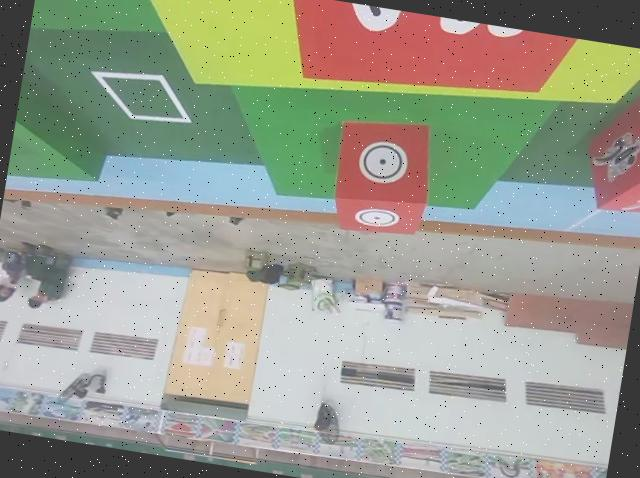R1: (574, 80, 640, 219)
R2 Real: (324, 113, 442, 245)
